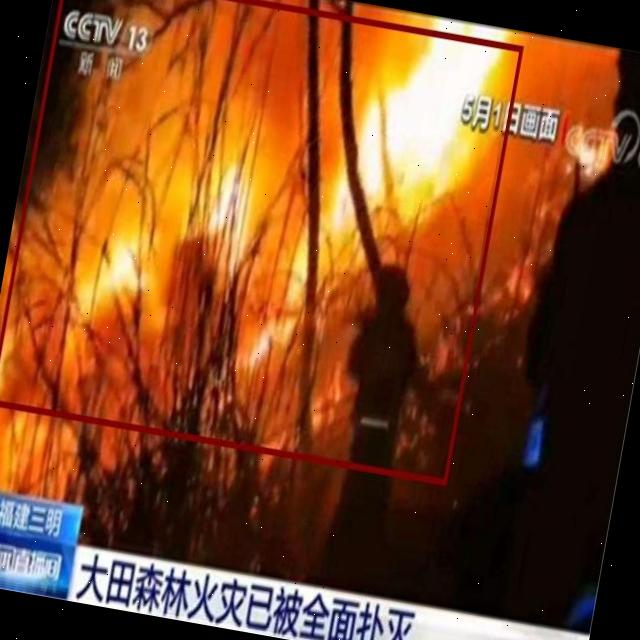fire: (0, 0, 522, 483)
